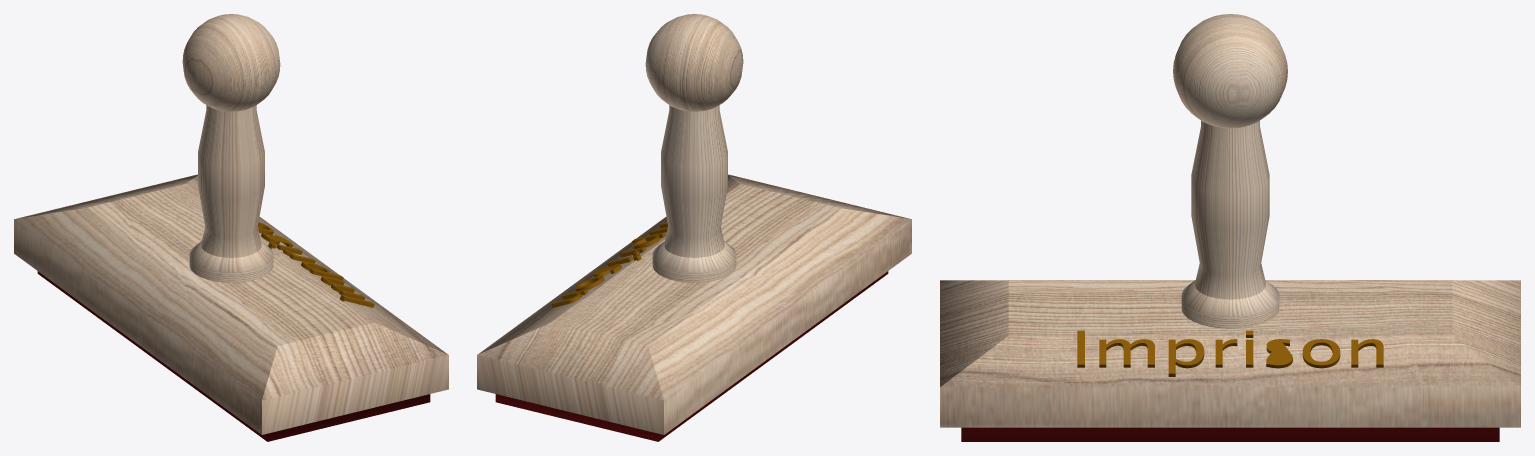
The model's file is Prison stamp.fbx.
3 views of the same model, side by side, from view 1: azimuth 30°, elevation 25°; view 2: azimuth 150°, elevation 25°; view 3: azimuth 270°, elevation 25° (orthographic). The views are drawn at different scales.
Visible parts, largest first — view 1: pCylinder2; view 2: pCylinder2; view 3: pCylinder2.
Boxes of the visible parts, x1,y1,x2,y2 form: pCylinder2: (14, 14, 448, 441); pCylinder2: (477, 14, 911, 441); pCylinder2: (940, 14, 1520, 441).
Size of the model in its own units: 0.5275 by 0.883 by 1.21.
